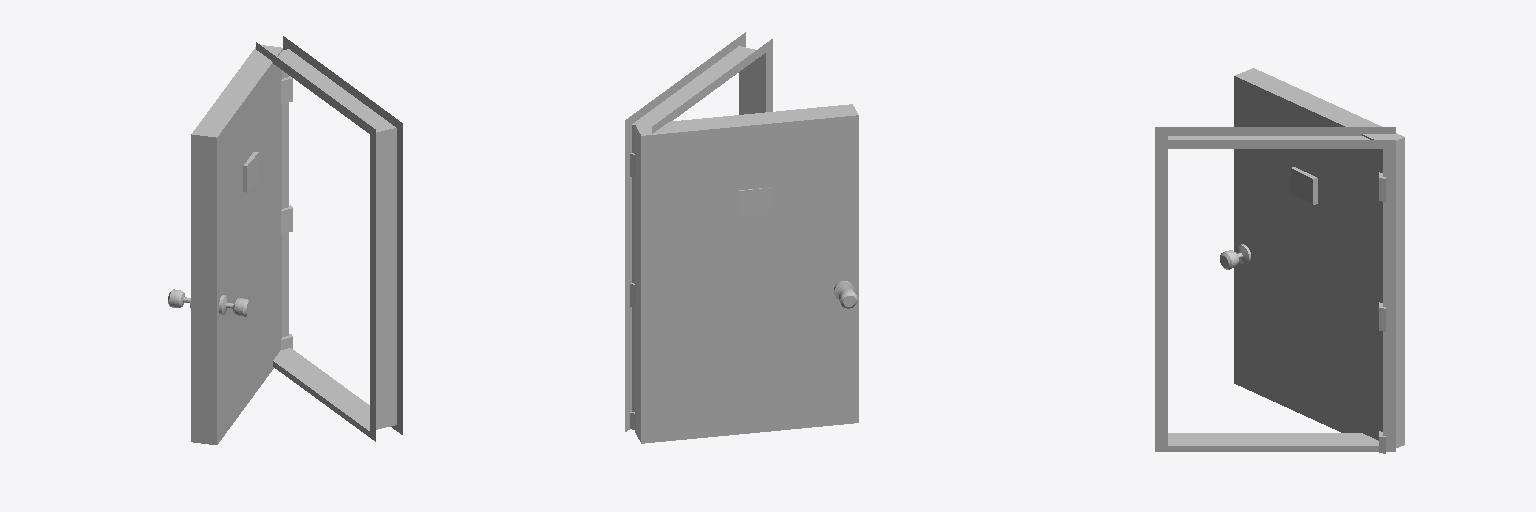
Rendered from Door_1_Open14.obj.
3 views of the same model, side by side, from view 1: azimuth 30°, elevation 25°; view 2: azimuth 150°, elevation 25°; view 3: azimuth 270°, elevation 25° (orthographic).
Visible parts, largest first — view 1: Door, Frame_Door; view 2: Door, Frame_Door; view 3: Door, Frame_Door.
Boxes of the visible parts, box(x1,y1,x2,y2) form: Door: box(168, 45, 282, 444); Frame_Door: box(256, 36, 402, 441); Door: box(635, 104, 858, 443); Frame_Door: box(625, 32, 772, 431); Door: box(1220, 68, 1404, 447); Frame_Door: box(1155, 127, 1395, 453).
Size of the model in its own units: 0.7116 by 1.21 by 0.8731.